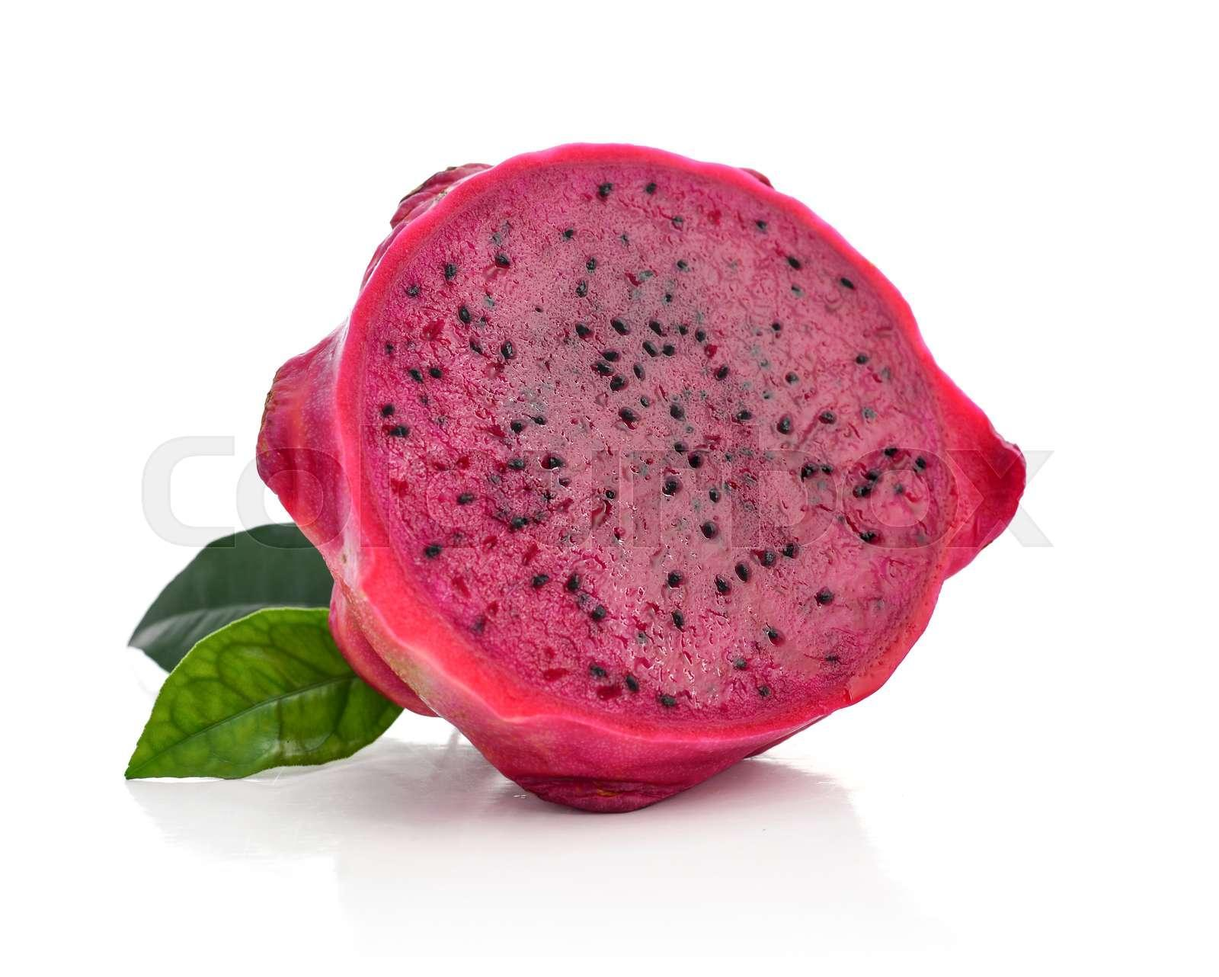dragon-fruit: (256, 135, 1031, 821)
